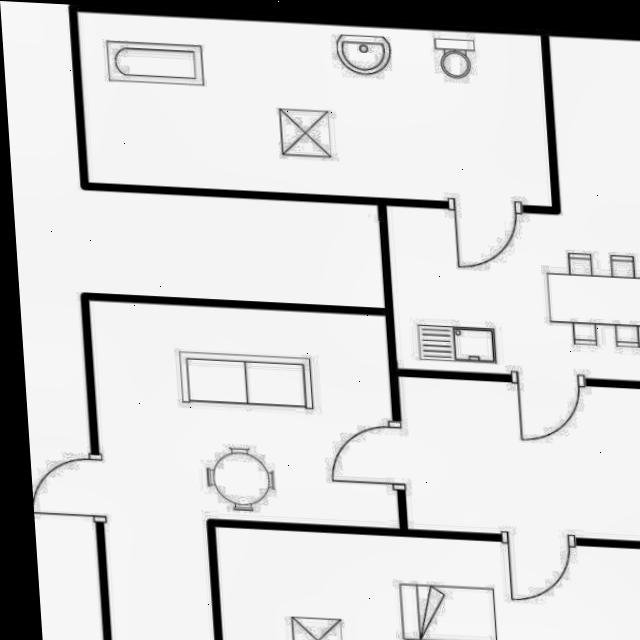room: (90, 282, 405, 640), (71, 12, 560, 205), (387, 35, 640, 380), (216, 526, 640, 640)
